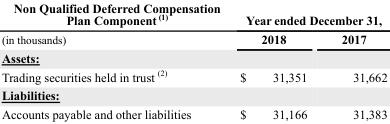table: (0, 0, 386, 120)
table column: (0, 0, 229, 120), (229, 0, 323, 120), (323, 0, 386, 120)
table column header: (0, 0, 386, 48)
table projected row header: (0, 85, 386, 104), (0, 48, 386, 66)
table row: (0, 0, 386, 29), (0, 29, 386, 48), (0, 66, 386, 85), (0, 85, 386, 104), (0, 48, 386, 66), (0, 104, 386, 120)
table spanning cell: (0, 0, 229, 48), (229, 0, 386, 29)
